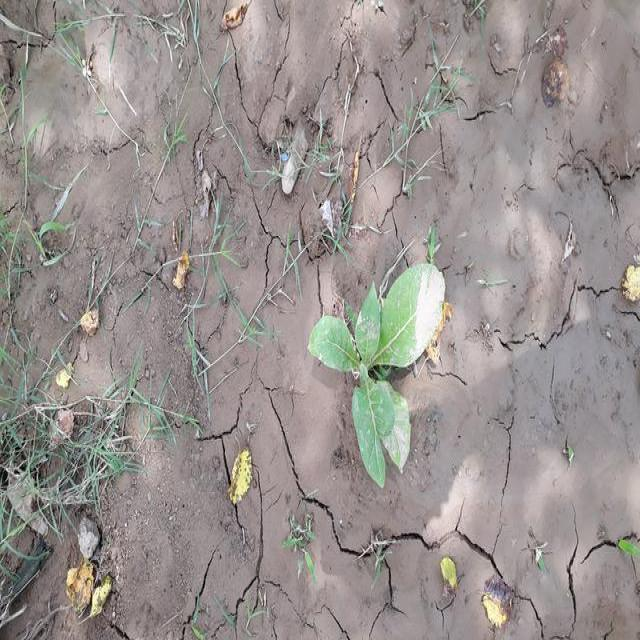crop: (310, 262, 455, 476)
